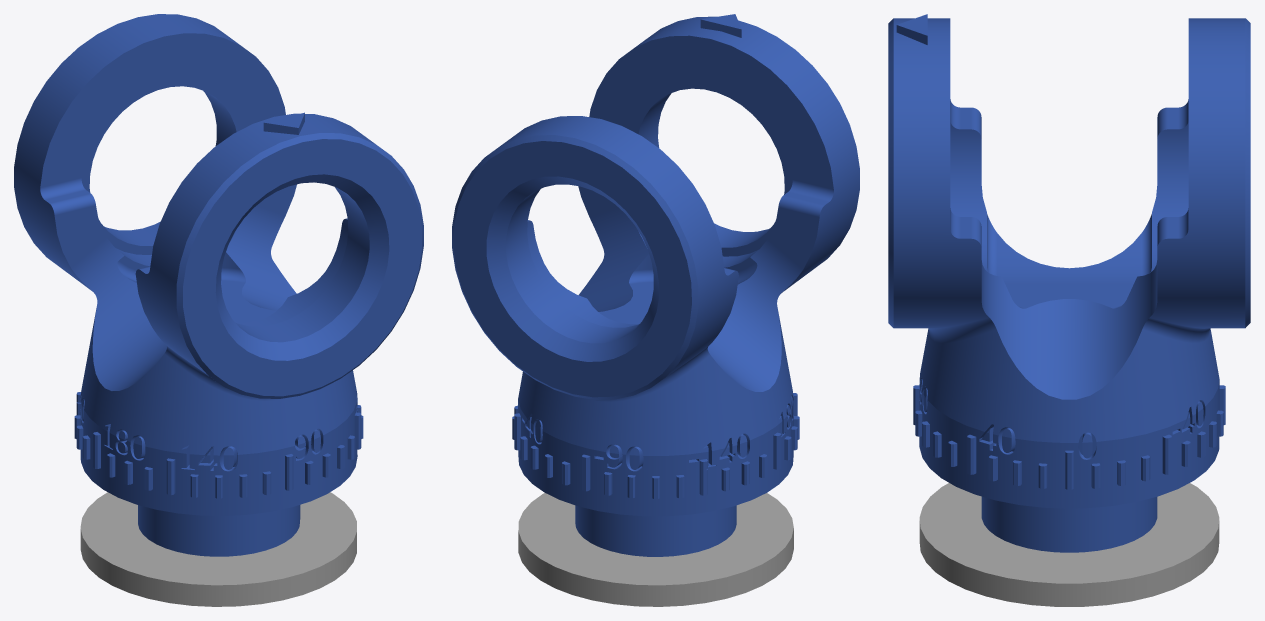
Rendered from ColumnLink.dae.
3 renders of one model, left to right at view 1: azimuth 30°, elevation 25°; view 2: azimuth 150°, elevation 25°; view 3: azimuth 270°, elevation 25°, orthographic. The views are drawn at different scales.
Parts seen in each view (by area): view 1: 3_ColumnLink, 2_BaseCap; view 2: 3_ColumnLink, 2_BaseCap; view 3: 3_ColumnLink, 2_BaseCap.
Boxes of the visible parts, x1=… form: 3_ColumnLink: x1=14, y1=14, x2=423, y2=556; 2_BaseCap: x1=80, y1=492, x2=356, y2=606; 3_ColumnLink: x1=452, y1=14, x2=859, y2=556; 2_BaseCap: x1=518, y1=493, x2=793, y2=606; 3_ColumnLink: x1=888, y1=14, x2=1250, y2=552; 2_BaseCap: x1=919, y1=483, x2=1219, y2=606.
Size of the model in its own units: 0.0302 by 0.035 by 0.0553.
